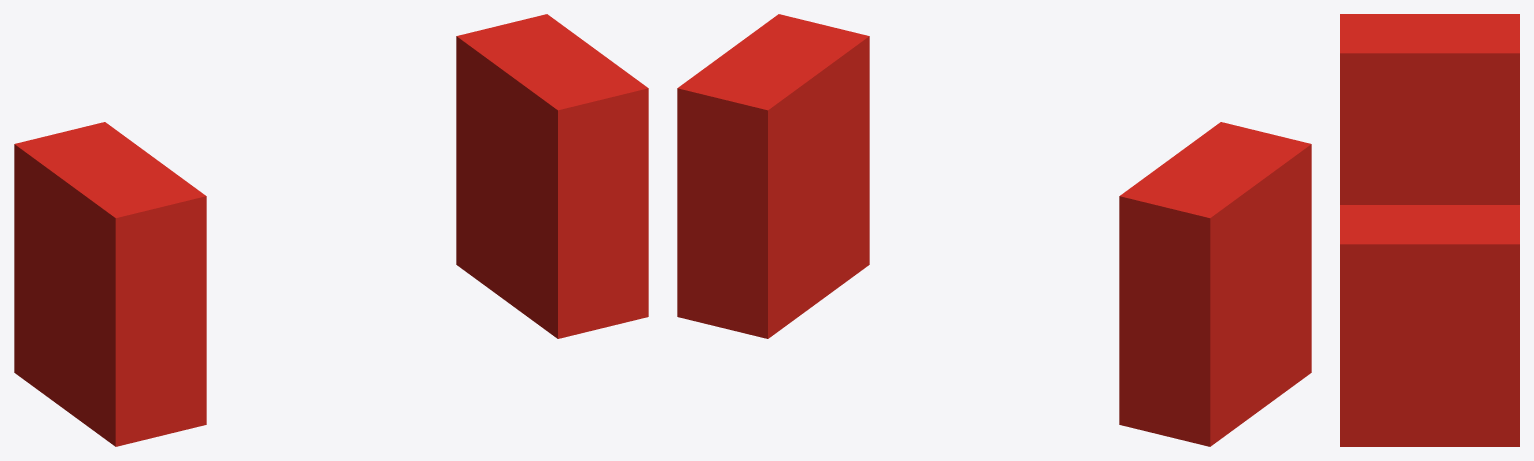
The model's file is edificio1.fbx.
3 views of the same model, side by side, from view 1: azimuth 30°, elevation 25°; view 2: azimuth 150°, elevation 25°; view 3: azimuth 270°, elevation 25° (orthographic). The views are drawn at different scales.
Parts seen in each view (by area): view 1: Cube.008; view 2: Cube.008; view 3: Cube.008.
Boxes of the visible parts, box(x1,y1,x2,y2) form: Cube.008: box(14, 14, 648, 446); Cube.008: box(677, 14, 1311, 446); Cube.008: box(1340, 14, 1519, 446).
Bounding box in the file's own units: 15163 × 6219 × 5000.
